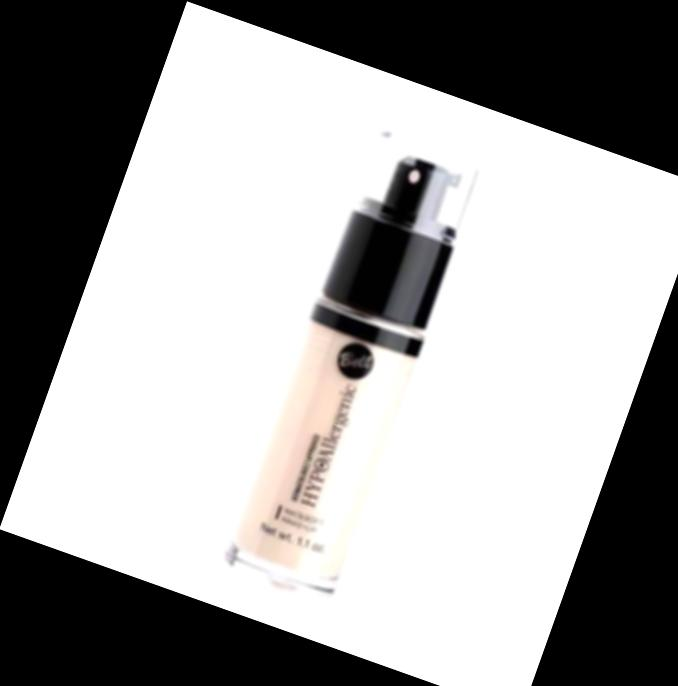cosmetic: (220, 126, 486, 606)
